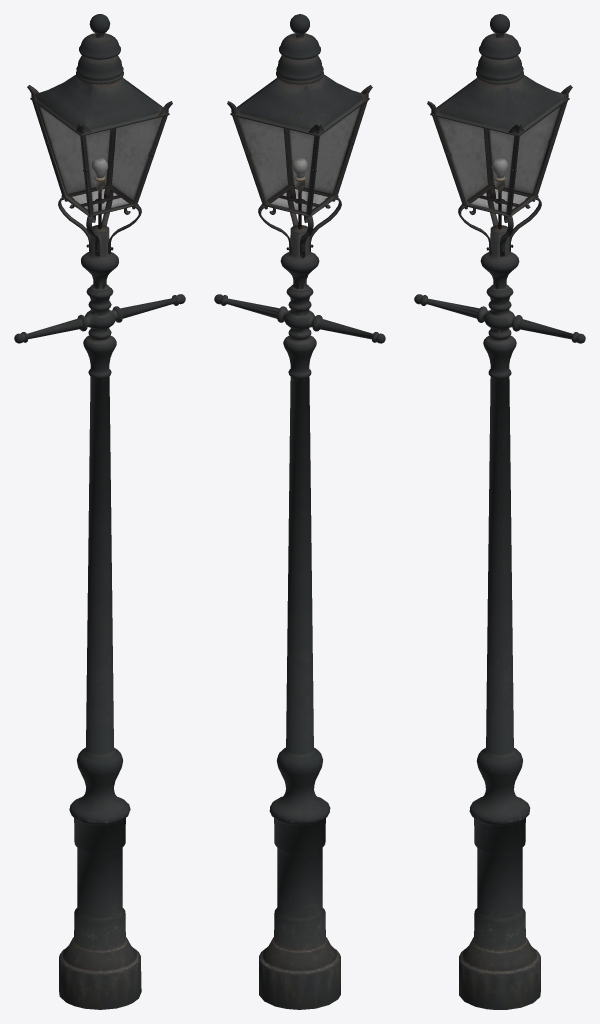
The model's file is street_lamp_01.glb.
3 renders of one model, left to right at view 1: azimuth 30°, elevation 25°; view 2: azimuth 150°, elevation 25°; view 3: azimuth 330°, elevation 25°, orthographic.
Parts seen in each view (by area): view 1: street_lamp_01; view 2: street_lamp_01; view 3: street_lamp_01.
Boxes of the visible parts, bbox=[...] form: street_lamp_01: bbox=[14, 14, 185, 1009]; street_lamp_01: bbox=[214, 14, 385, 1009]; street_lamp_01: bbox=[414, 14, 585, 1009].
Bounding box in the file's own units: 0.704 × 3.87 × 0.3866.
Materials: 3 (3 with a texture image).
